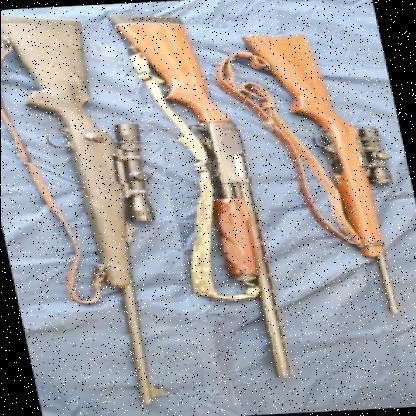rifle: (0, 8, 200, 406), (117, 4, 296, 388), (238, 30, 416, 320)
